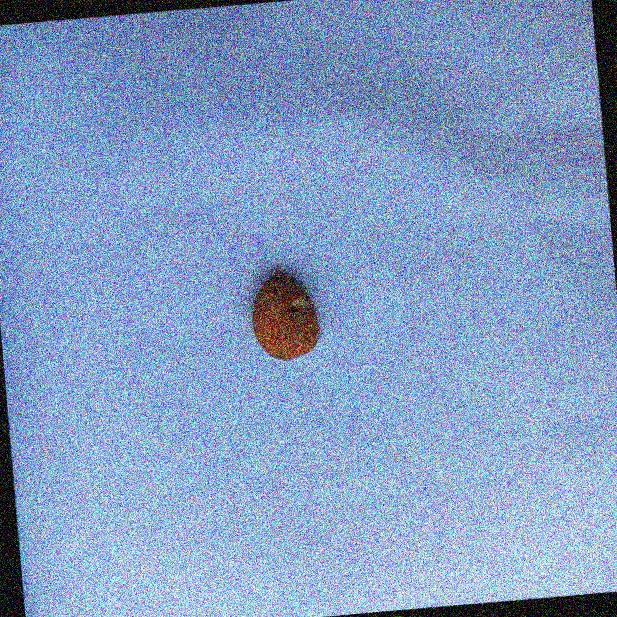grade3: (246, 266, 327, 367)
